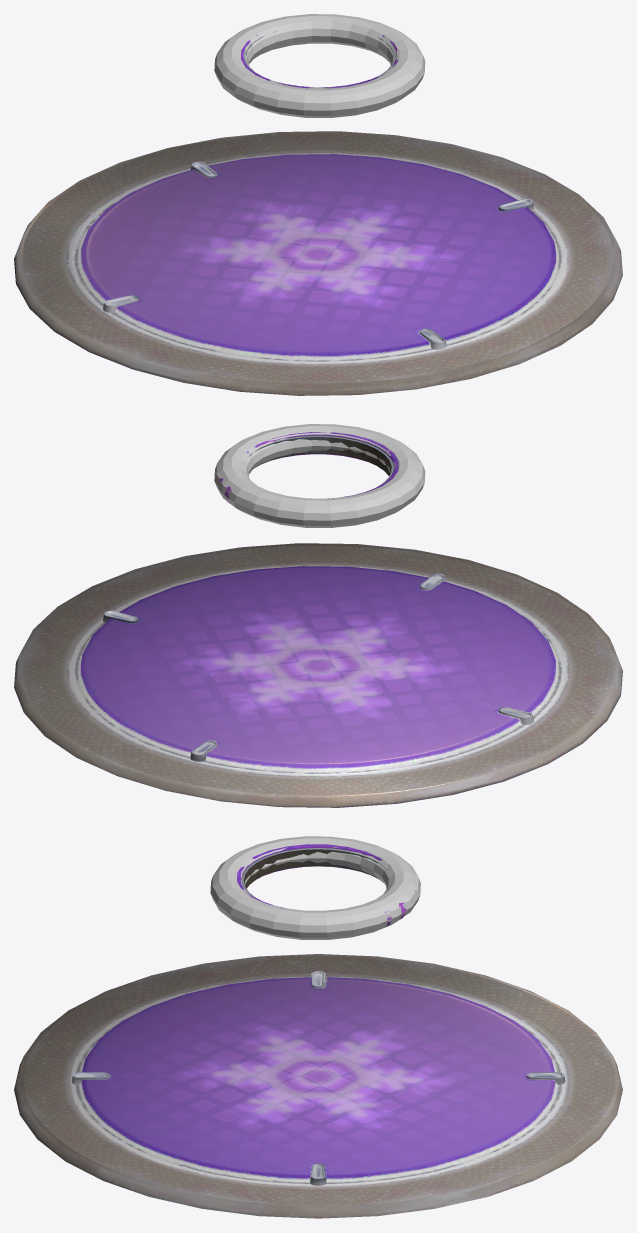
File: pref_TPC_v2_NeutralScoreArea03_winter_purple_interfere_lv1.fbx
3 views of the same model, one above another, from view 1: azimuth 30°, elevation 25°; view 2: azimuth 150°, elevation 25°; view 3: azimuth 270°, elevation 25° (orthographic).
Parts seen in each view (by area): view 1: sm_prop_platform06a_lv1, sm_fx_0037_ring_04_xz (3), sm_prop_platform06b_lv1; view 2: sm_prop_platform06a_lv1, sm_fx_0037_ring_04_xz (3), sm_prop_platform06b_lv1; view 3: sm_prop_platform06a_lv1, sm_fx_0037_ring_04_xz (3), sm_prop_platform06b_lv1.
Part boxes in pixels (x1,y1,x2,y2): sm_prop_platform06a_lv1: [14, 131, 622, 395]; sm_fx_0037_ring_04_xz (3): [214, 14, 425, 117]; sm_prop_platform06b_lv1: [241, 31, 398, 88]; sm_prop_platform06a_lv1: [14, 543, 622, 807]; sm_fx_0037_ring_04_xz (3): [214, 424, 425, 527]; sm_prop_platform06b_lv1: [219, 432, 398, 501]; sm_prop_platform06a_lv1: [14, 954, 622, 1218]; sm_fx_0037_ring_04_xz (3): [210, 836, 420, 939]; sm_prop_platform06b_lv1: [237, 844, 415, 926].
Bounding box in the file's own units: 7.46 × 2.9 × 7.46.
